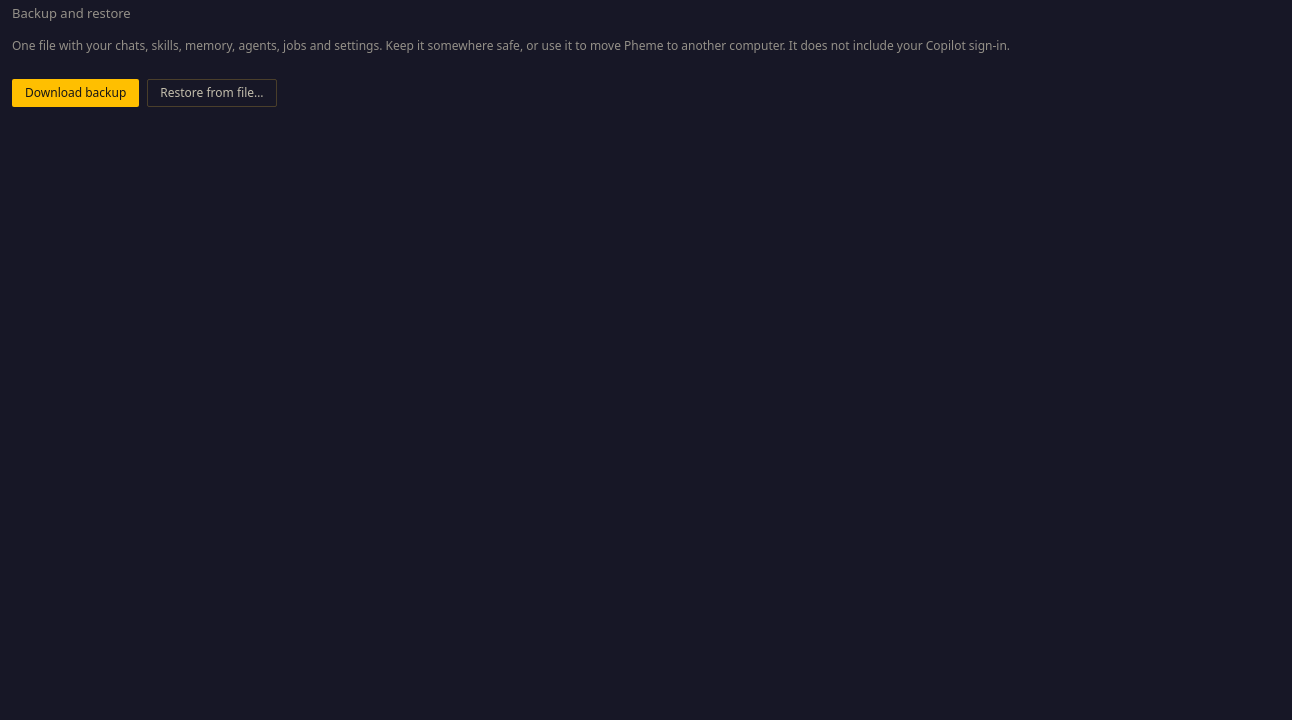
Test: BackupSetting › downloads a backup and reports it
Click the button "Download backup" at (76, 93), box [12,79,139,107]
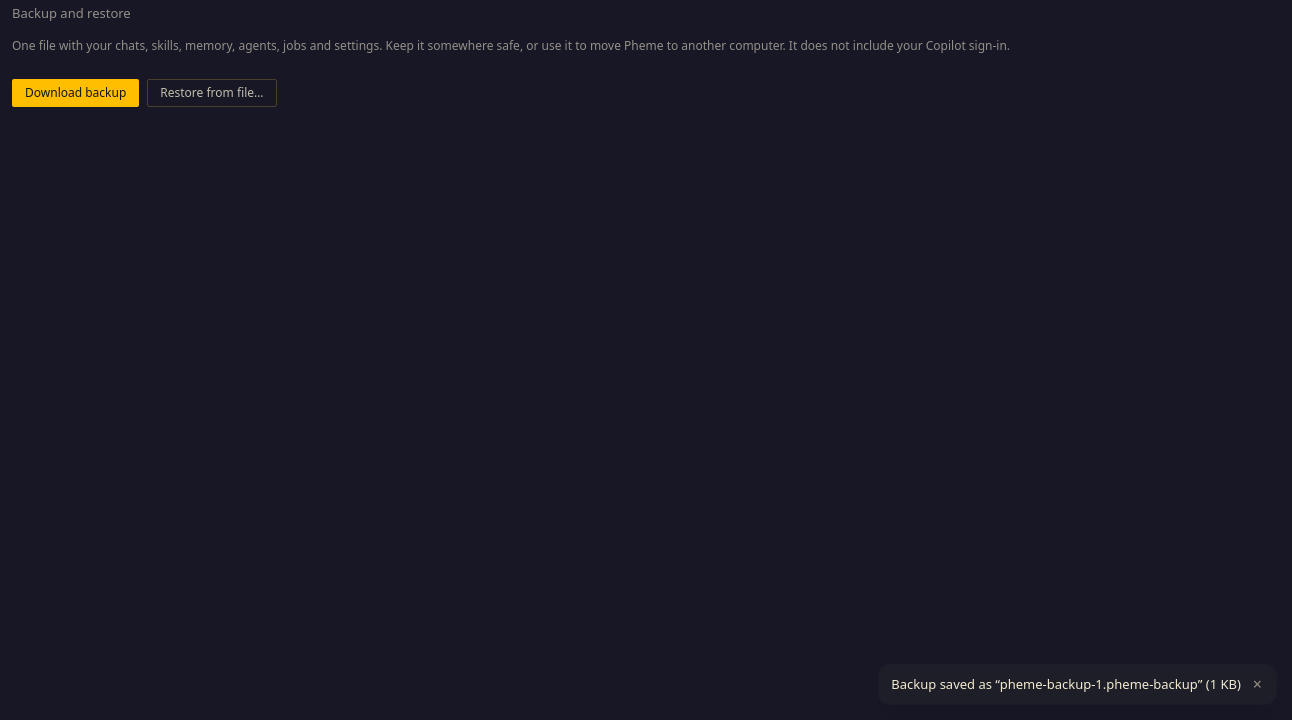
Check: the text "Backup saved as “pheme-backup-1.pheme-backup” (1 KB)" is shown, box [891,674,1241,694]
